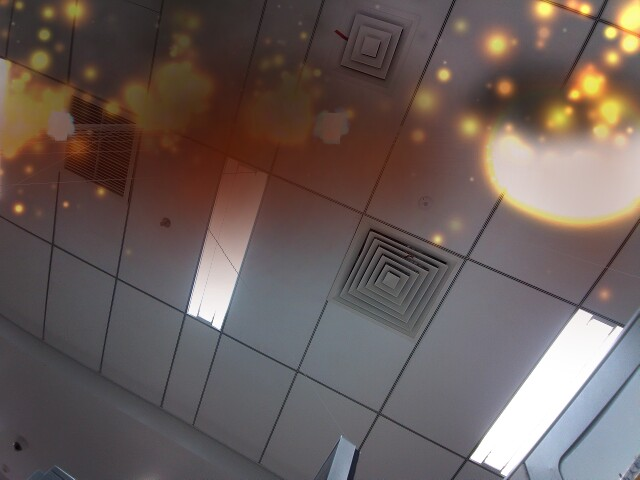fire: (481, 76, 637, 230)
